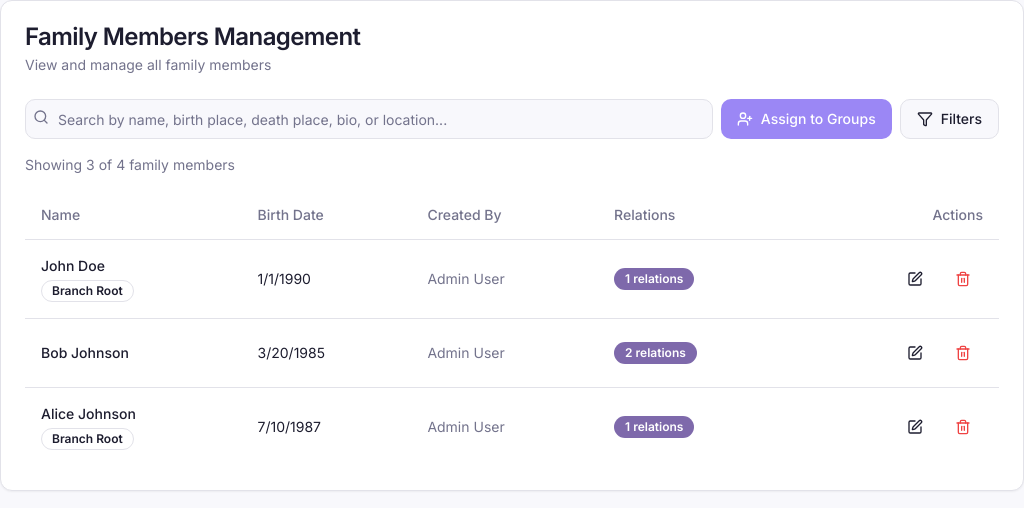
Scenario: FamilyMembersTab › Search Functionality › should prioritize local search over global searchQuery
The width and height of the screenshot is (1024, 508).
Replace the text in the field with placeholder "Search by name, birth place" with "Jane" at point(369, 119), box [25,99,713,139]
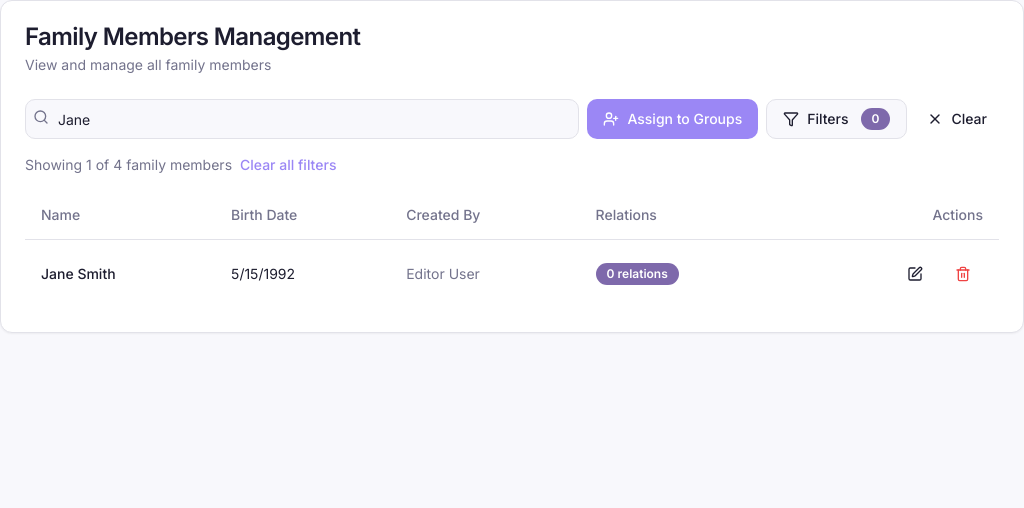
Expected: the text "Jane Smith" is shown, [41,264,116,282]
Expected: the text "John Doe" is gone
